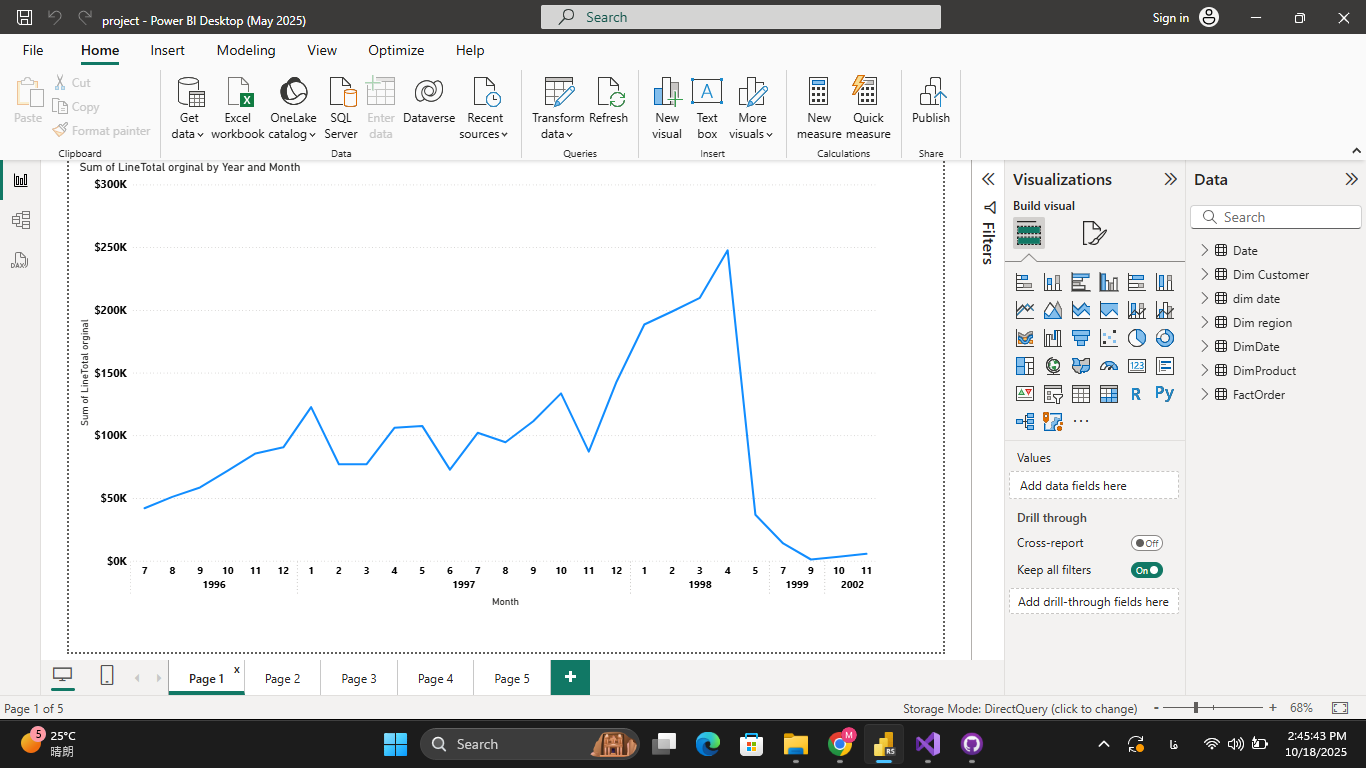

The page's visual inventory and layout, read from the dashboard file:
{"tool":"powerbi","page":{"name":"Page 1","canvas":[1280,720],"ordinal":0},"visuals":[{"type":"lineChart","fields":{"Category":["DimDate.Year","DimDate.Month"],"Y":["Sum(FactOrder.LineTotal orginal)"]},"box":[10.2,0,1178,658.5],"z":0}]}

Visuals, with their boxes on the page's 1280x720 design canvas (x1, y1, x2, y2). These are canvas units, not pixel positions in the 1366x768 screenshot, which may show the page scaled, cropped or inside an application window:
lineChart - DimDate.Year x DimDate.Month: (x1=10, y1=0, x2=1188, y2=658)
